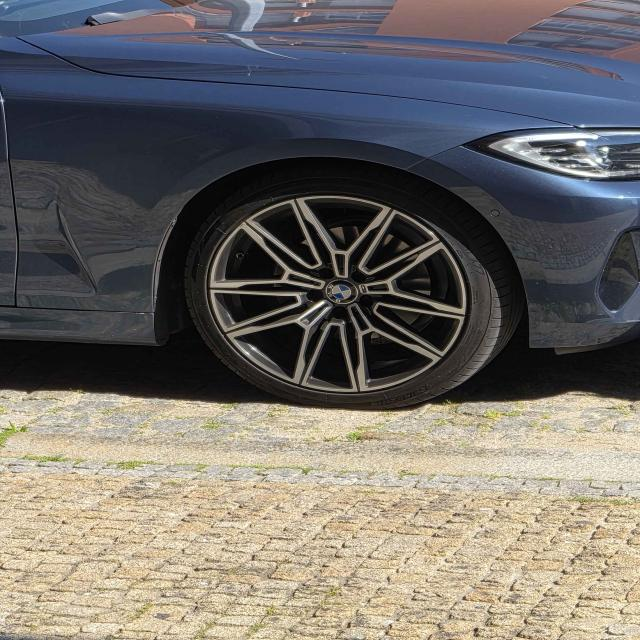jante: (206, 194, 469, 394)
parafuso: (318, 267, 334, 279), (359, 294, 373, 306), (308, 290, 322, 301), (334, 306, 346, 318), (353, 271, 365, 283)
roda: (181, 163, 526, 410)
